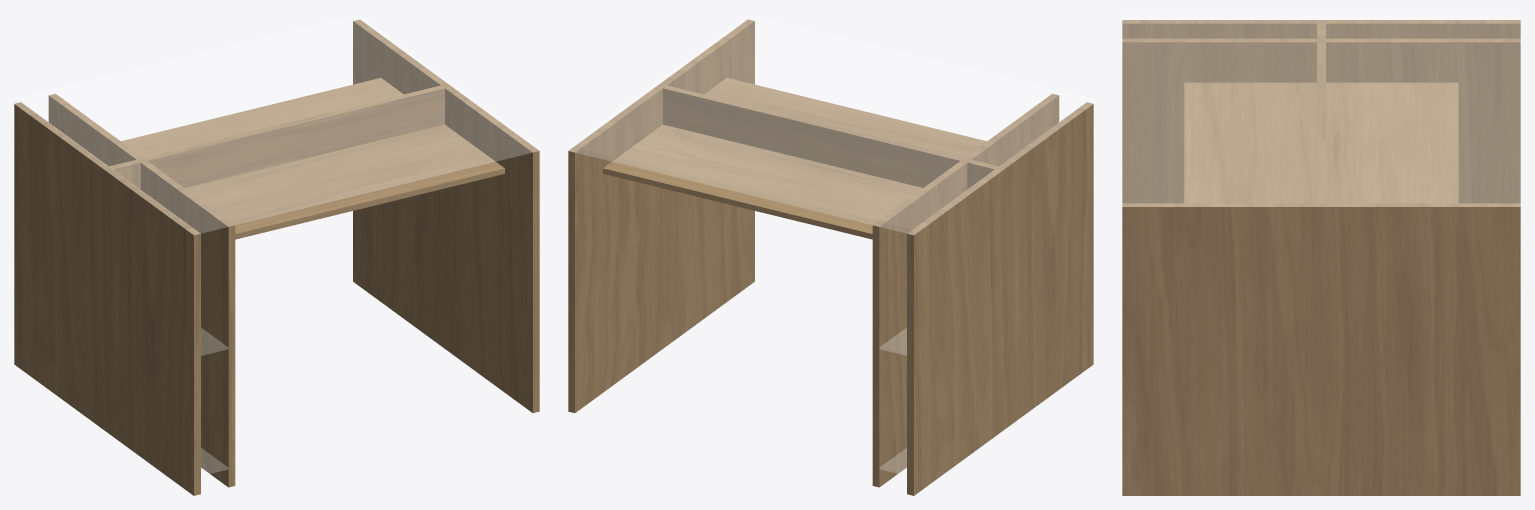
File: BF_want2.glb
3 renders of one model, left to right at view 1: azimuth 30°, elevation 25°; view 2: azimuth 150°, elevation 25°; view 3: azimuth 270°, elevation 25°, orthographic. The views are drawn at different scales.
Visible parts, largest first — view 1: BF_want2.model, BF_want2glass.model; view 2: BF_want2.model, BF_want2glass.model; view 3: BF_want2.model, BF_want2glass.model.
Part boxes in pixels (x1,y1,x2,y2): BF_want2.model: [14, 19, 539, 495]; BF_want2glass.model: [14, 14, 539, 475]; BF_want2.model: [568, 19, 1093, 495]; BF_want2glass.model: [568, 14, 1093, 475]; BF_want2.model: [1122, 20, 1520, 495]; BF_want2glass.model: [1122, 14, 1520, 206].
Bounding box in the file's own units: 10 × 7.35 × 9.
Materials: 2 (2 with a texture image).
